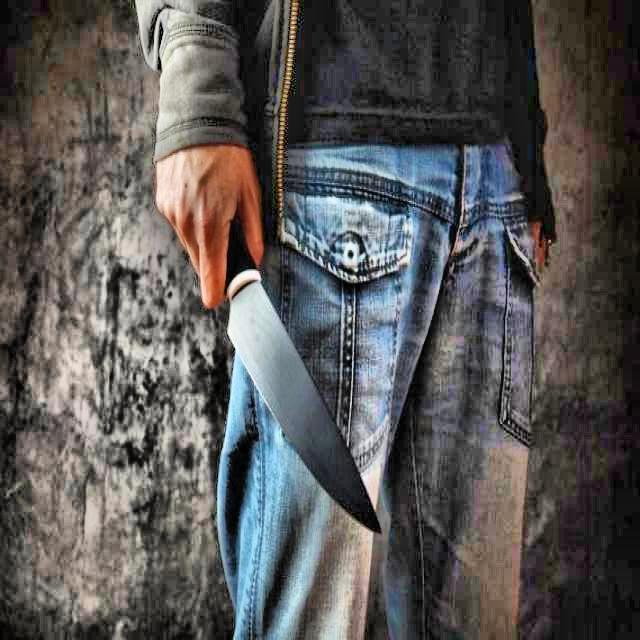knife: (226, 227, 380, 537)
